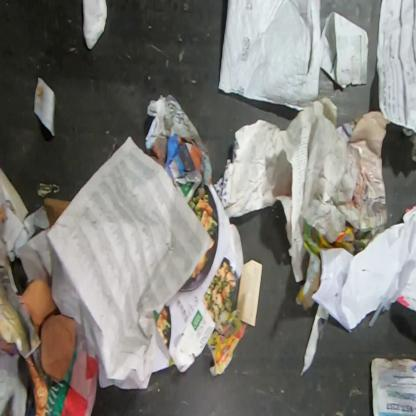cardboard: (43, 198, 71, 229)
soft_plastic: (218, 0, 325, 112)
